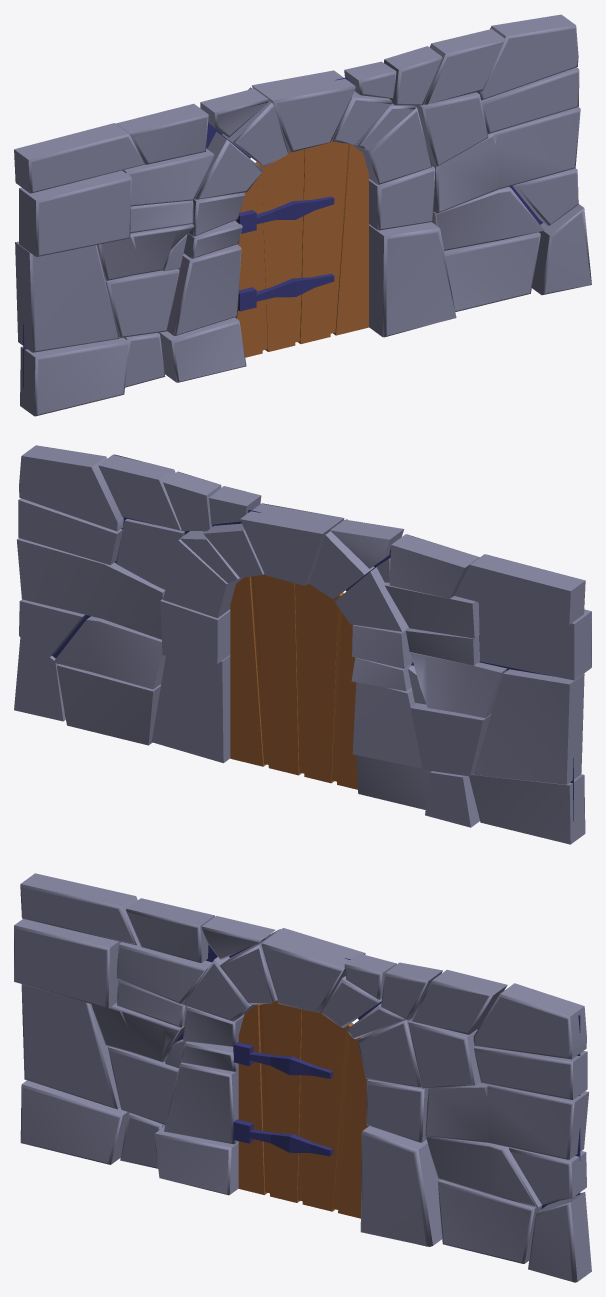
Rendered from Door_big_wall.fbx.
3 renders of one model, top to bottom at view 1: azimuth 30°, elevation 25°; view 2: azimuth 150°, elevation 25°; view 3: azimuth 330°, elevation 25°, orthographic.
Visible parts, largest first — view 1: Cube.002; view 2: Cube.002; view 3: Cube.002.
Boxes of the visible parts, bbox=[...] form: Cube.002: bbox=[14, 14, 591, 416]; Cube.002: bbox=[14, 445, 591, 844]; Cube.002: bbox=[14, 873, 591, 1282].
Size of the model in its own units: 853 by 387 by 85.78.
